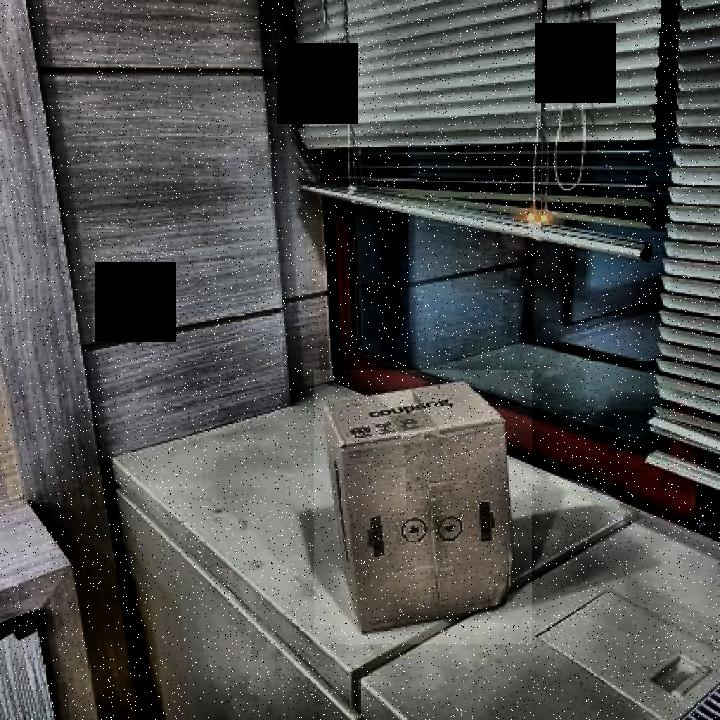box: (314, 370, 532, 644)
